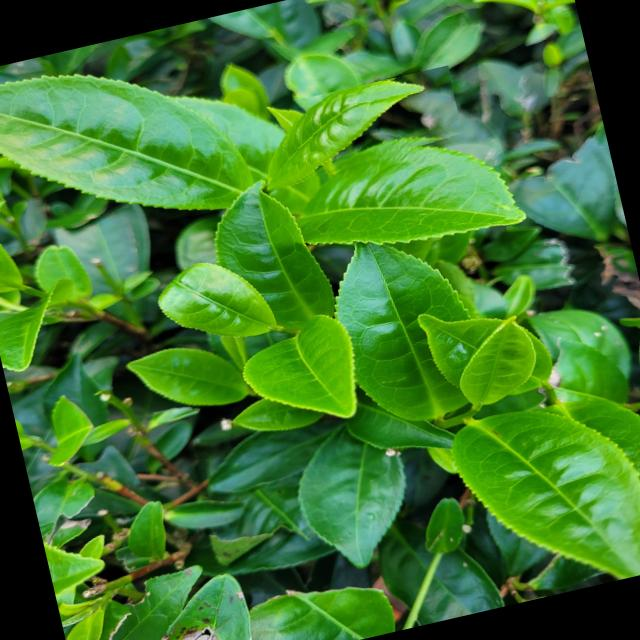Catagory A(1-2 days): (246, 65, 466, 191)
